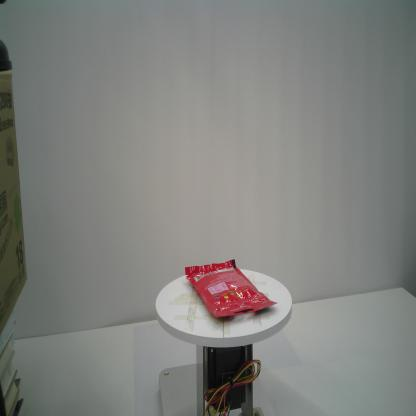Candy: (183, 257, 278, 319)
